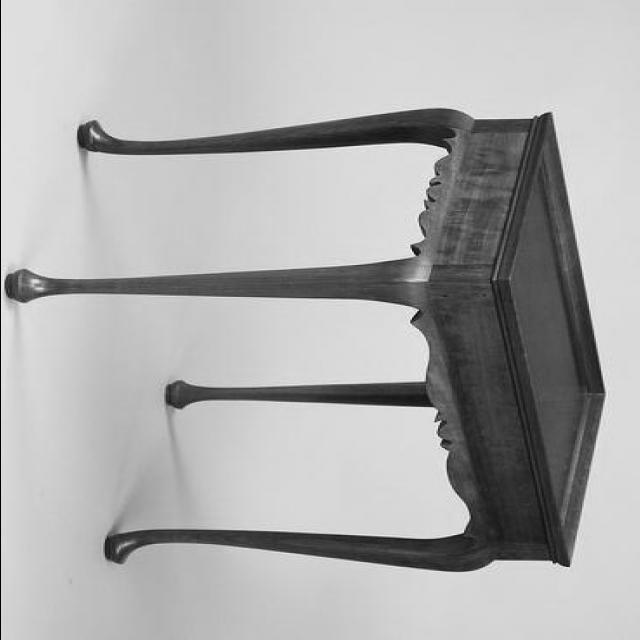table: (4, 106, 610, 572)
